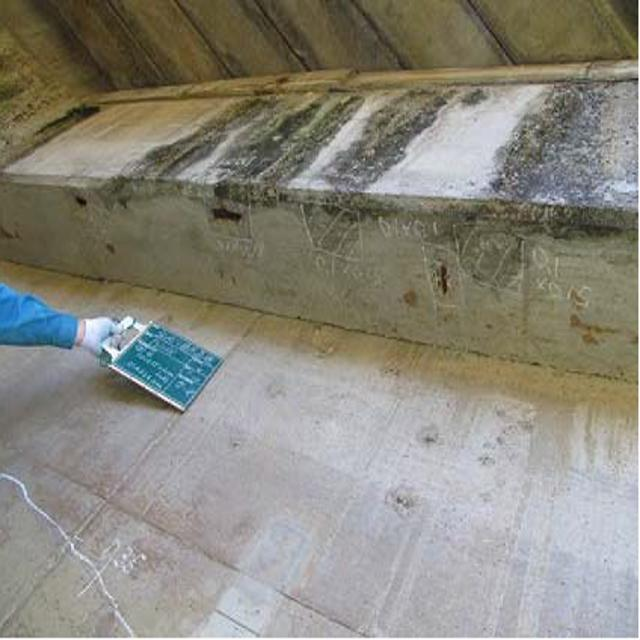leakage: (143, 68, 620, 245)
